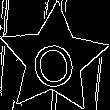O_N: (27, 30, 80, 89)
